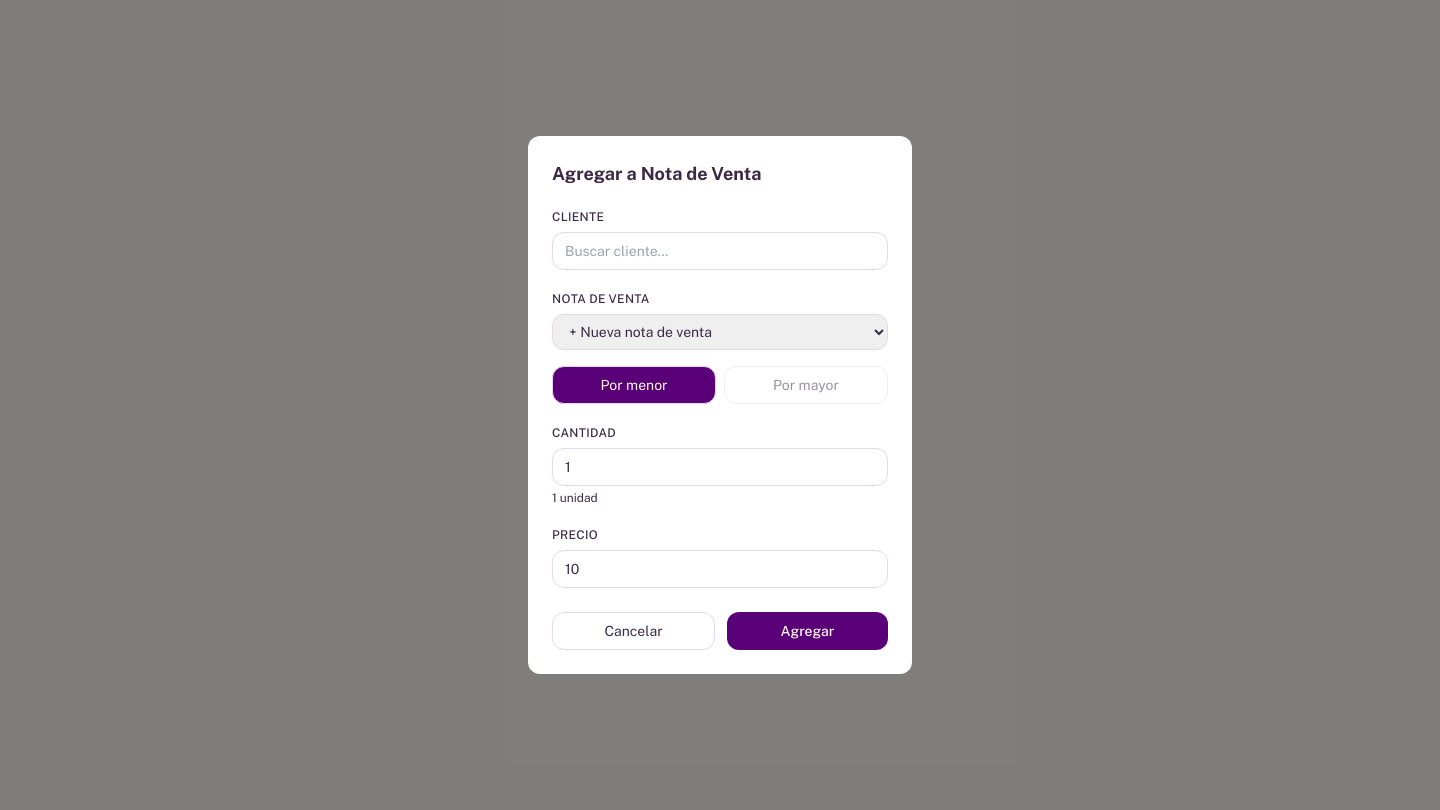
Test: AgregarANotaVentaModal — race condition › AbortController cancela busqueda vieja y muestra resultado mas reciente
This screenshot has width=1440, height=810.
Expected: the heading "Agregar a Nota de Venta" is shown, [552, 163, 761, 184]
# Escribir "Mar" y adelantar solo hasta que el fetch se DISPARE (no resuelva)
Type "Mar" into the field with placeholder "Buscar cliente..." at (720, 251), box [552, 232, 888, 270]
Wait 220 ms
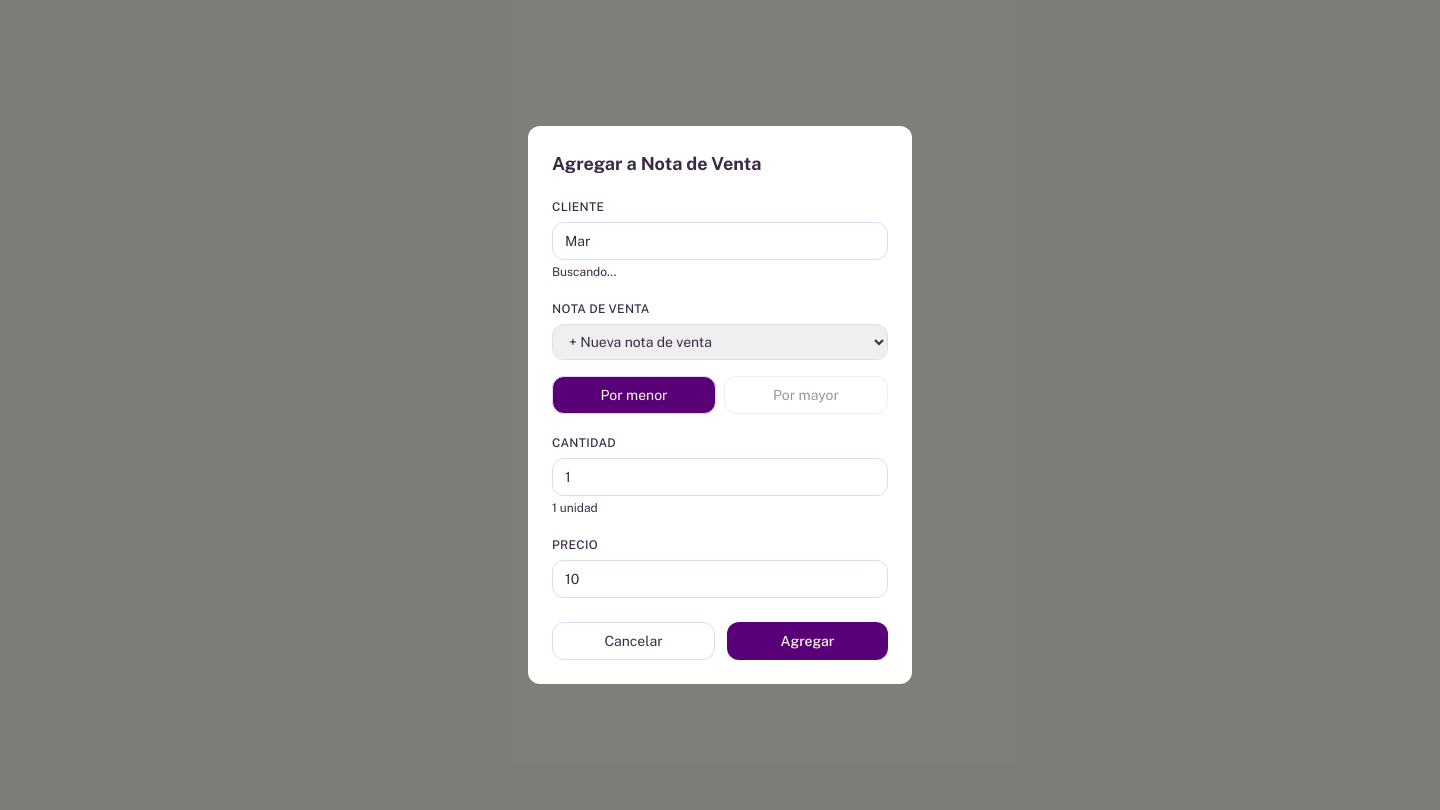
# Escribir "Mari" ANTES de que la primera request resuelva
Replace the text in the field with placeholder "Buscar cliente..." with "Mari" at (720, 241), box [552, 222, 888, 260]
Wait 1000 ms
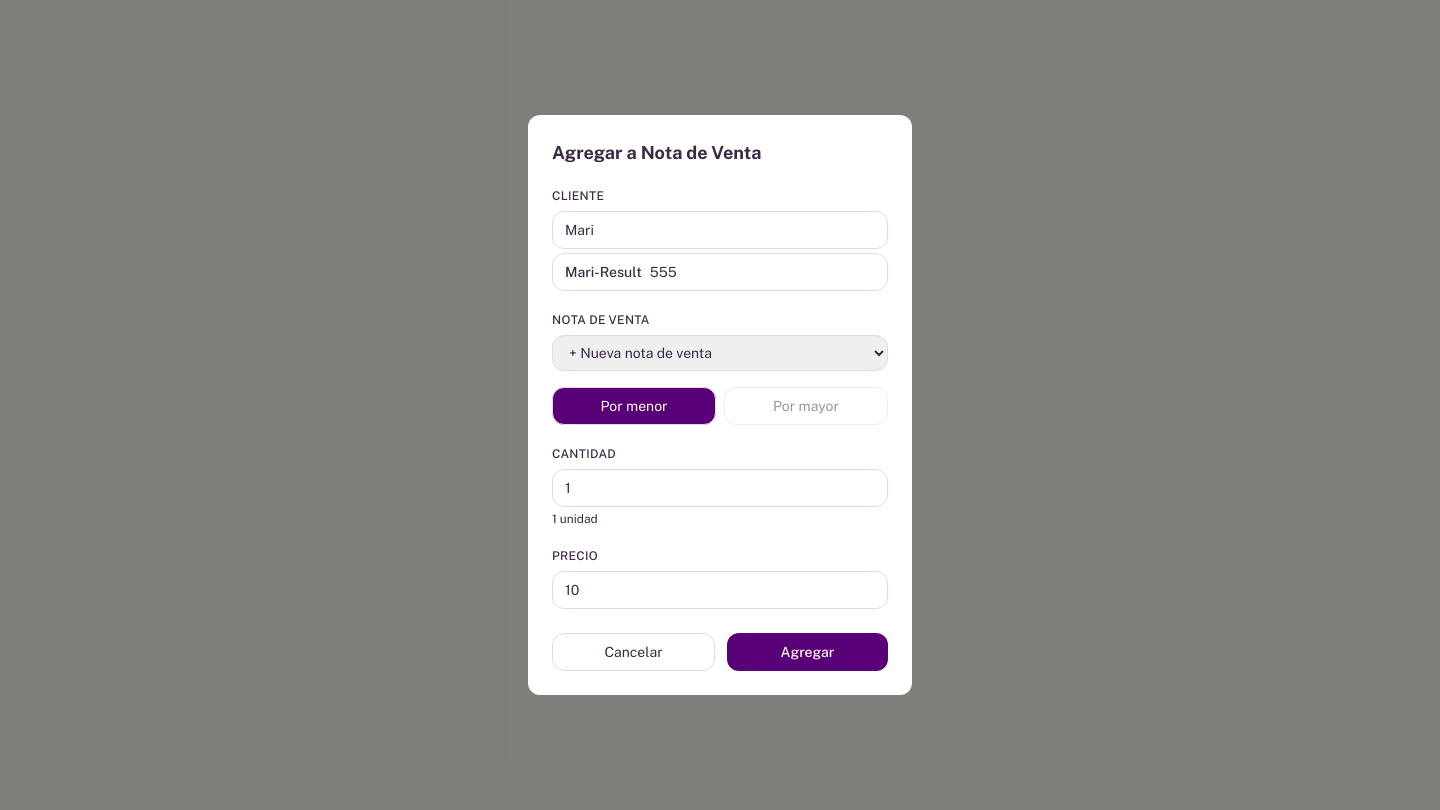
Result: the text "Mari-Result" is shown at [565, 264, 642, 280]
